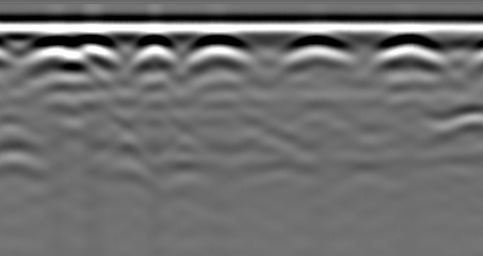steel: (372, 32, 446, 74), (285, 33, 354, 75), (186, 33, 248, 70), (32, 37, 82, 70), (131, 36, 177, 70), (79, 33, 122, 67)
